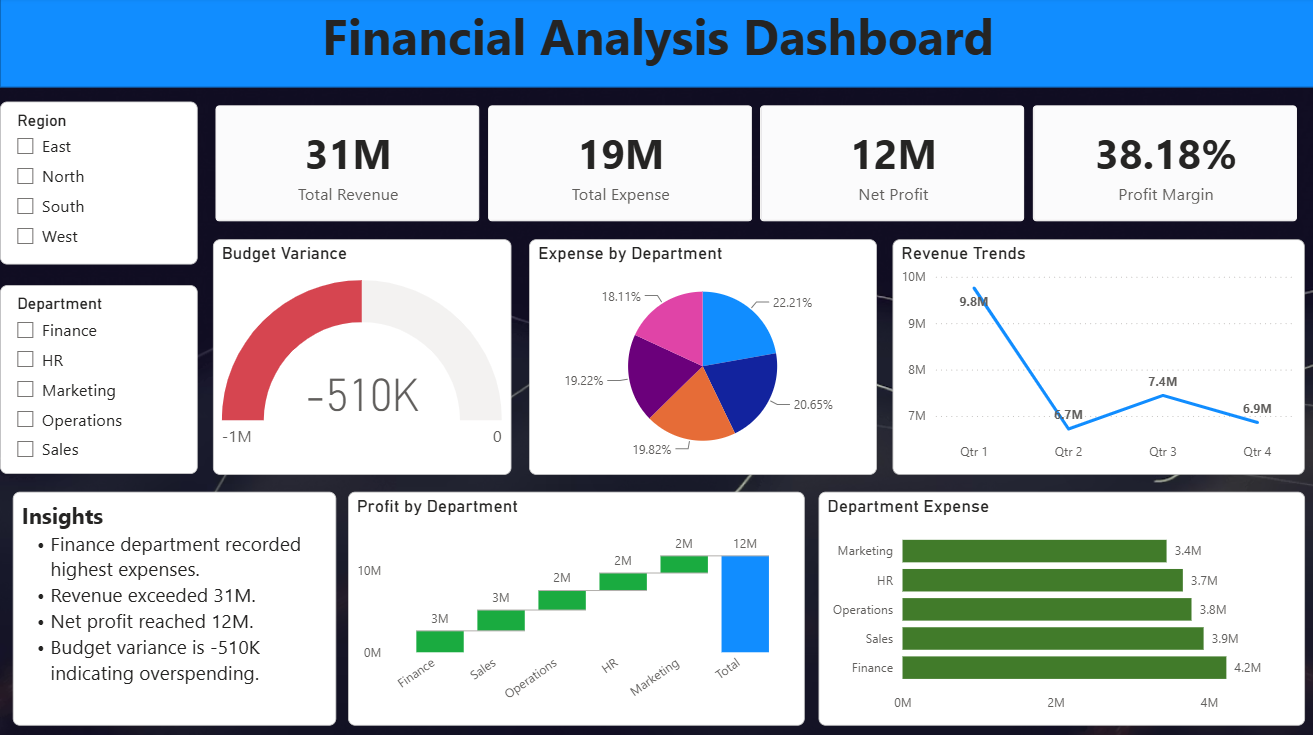

What the dashboard file says about the page in this screenshot:
{"tool":"powerbi","page":{"name":"Page 1","canvas":[1280,720],"ordinal":0},"visuals":[{"type":"shape","box":[0,0,1280.7,88],"z":0},{"type":"textbox","box":[0,0,1279.4,88],"z":1},{"type":"clusteredBarChart","title":"Department Expense","fields":{"Category":["financial_analytics_project_dataset.Department"],"Y":["Sum(financial_analytics_project_dataset.Expense)"]},"box":[795.5,481.3,472.6,227.5],"z":2},{"type":"waterfallChart","title":"Profit by Department","fields":{"Y":["Sum(financial_analytics_project_dataset.Profit)"],"Category":["financial_analytics_project_dataset.Department"]},"box":[338.1,481.3,443.6,227.5],"z":3},{"type":"textbox","box":[12.6,481.3,314.2,227.5],"z":4},{"type":"lineChart","title":"Revenue Trends","fields":{"Category":["financial_analytics_project_dataset.Date.Variation.Date Hierarchy.Quarter"],"Y":["Sum(financial_analytics_project_dataset.Revenue)"]},"box":[867.2,235,400.9,228.7],"z":5},{"type":"pieChart","title":"Expense by Department","fields":{"Y":["Sum(financial_analytics_project_dataset.Expense)"],"Category":["financial_analytics_project_dataset.Department"]},"box":[514,235,338.1,228.7],"z":6},{"type":"gauge","fields":{"Y":["financial_analytics_project_dataset.Budget Variance"]},"box":[207.4,235,290.3,228.7],"z":7},{"type":"slicer","fields":{"Values":["financial_analytics_project_dataset.Department"]},"box":[0,280.3,192.3,183.5],"z":8},{"type":"slicer","fields":{"Values":["financial_analytics_project_dataset.Region"]},"box":[0,101.8,192.3,158.4],"z":9},{"type":"cardVisual","fields":{"Data":["financial_analytics_project_dataset.Total Revenue","financial_analytics_project_dataset.Total Expense","financial_analytics_project_dataset.Net Profit","financial_analytics_project_dataset.Profit Margin"]},"box":[192.3,88,1087.1,147],"z":10}]}

Visuals, with their boxes in screenshot pixels (x1, y1, x2, y2), scaled from the page's 1280x720 canvas onto the 1313x735 screenshot:
shape: bbox(0, 0, 1312, 90)
textbox: bbox(0, 0, 1312, 90)
"Department Expense" clusteredBarChart: bbox(816, 491, 1301, 724)
"Profit by Department" waterfallChart: bbox(347, 491, 802, 724)
textbox: bbox(13, 491, 335, 724)
"Revenue Trends" lineChart: bbox(890, 240, 1301, 473)
"Expense by Department" pieChart: bbox(527, 240, 874, 473)
gauge - financial_analytics_project_dataset.Budget Variance: bbox(213, 240, 511, 473)
slicer - financial_analytics_project_dataset.Department: bbox(0, 286, 197, 473)
slicer - financial_analytics_project_dataset.Region: bbox(0, 104, 197, 266)
cardVisual - financial_analytics_project_dataset.Total Revenue x financial_analytics_project_dataset.Total Expense: bbox(197, 90, 1312, 240)
